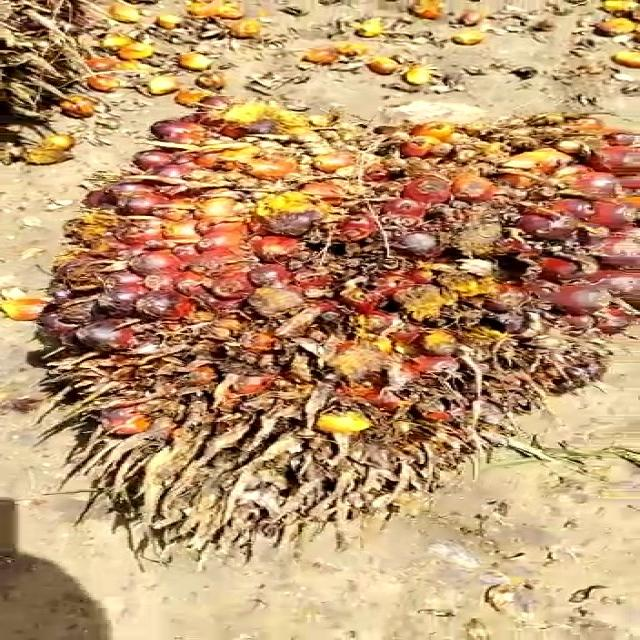palm oil: (48, 103, 640, 555)
